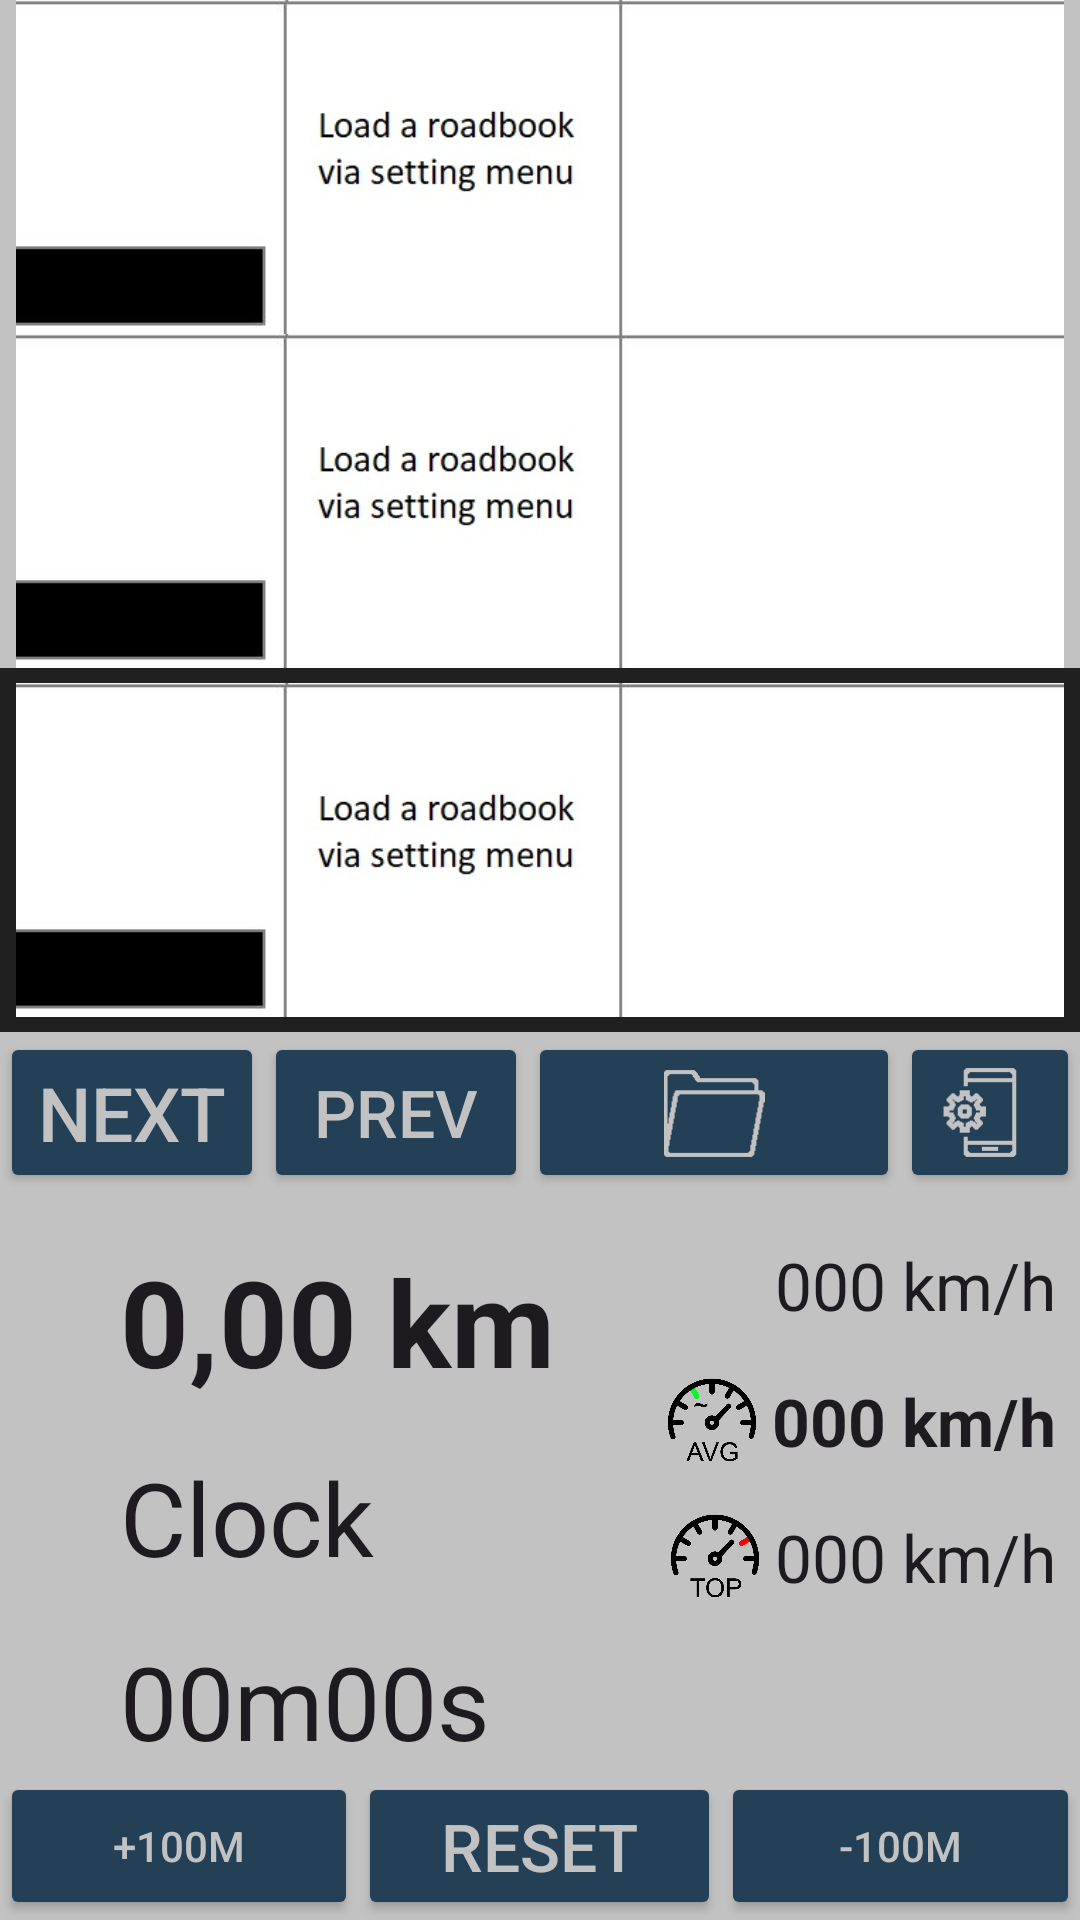

Named icons in this screenshot (1080w x 1920h) and their bounding boxes, (x1, y1, x2, y2):
opened folder: (540, 1050, 888, 1176)
setup: (912, 1050, 1068, 1176)
